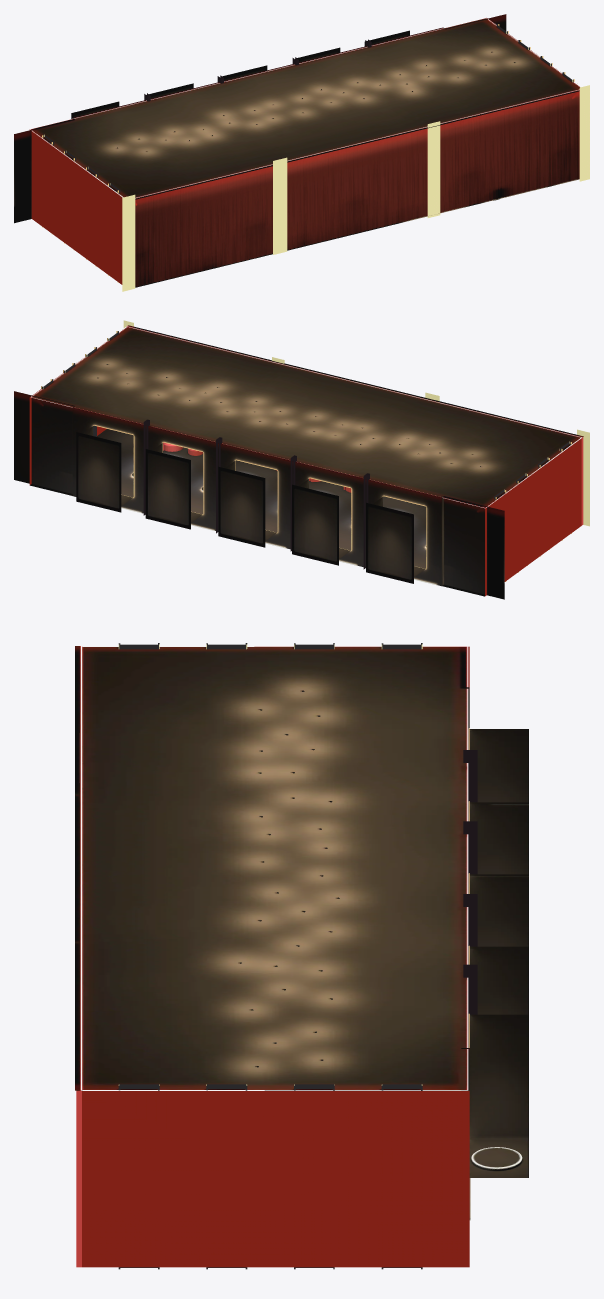
File: Flaresuite.glb
3 renders of one model, top to bottom at view 1: azimuth 30°, elevation 25°; view 2: azimuth 150°, elevation 25°; view 3: azimuth 270°, elevation 25°, orthographic. The views are drawn at different scales.
Parts seen in each view (by area): view 1: clothe, pCube16; view 2: clothe, pCube16; view 3: clothe.
Part boxes in pixels (bbox=[...]): clothe: bbox=[14, 14, 581, 287]; pCube16: bbox=[122, 85, 589, 291]; clothe: bbox=[14, 325, 583, 599]; pCube16: bbox=[123, 320, 589, 526]; clothe: bbox=[75, 643, 528, 1269].
Size of the model in its own units: 1.92 by 0.3602 by 0.7711.
17 materials, 17 textured.
